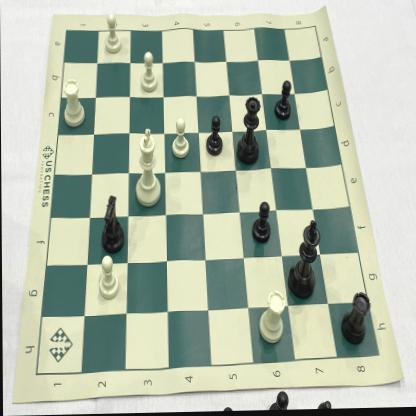black-king: (287, 217, 322, 305)
black-pawn: (248, 201, 271, 249), (204, 115, 225, 158), (273, 79, 293, 124)
black-queen: (234, 94, 264, 169)
black-rook: (339, 291, 370, 348), (98, 194, 125, 254)
white-king: (132, 127, 164, 209)
white-pawn: (95, 255, 120, 301), (169, 115, 190, 161), (139, 51, 159, 97), (101, 13, 122, 56)
white-rook: (256, 290, 286, 350), (58, 77, 87, 130)
